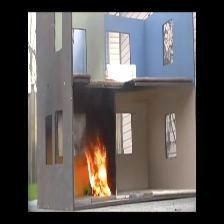fire: (79, 144, 114, 203)
